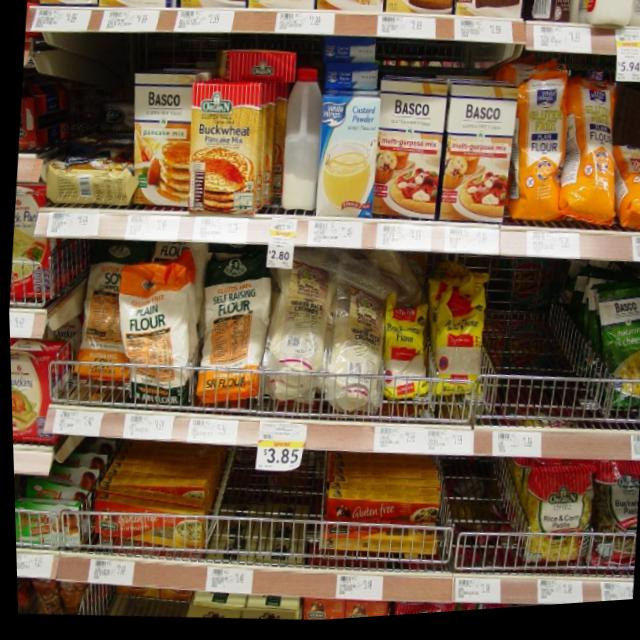q25: (179, 83, 268, 221)
